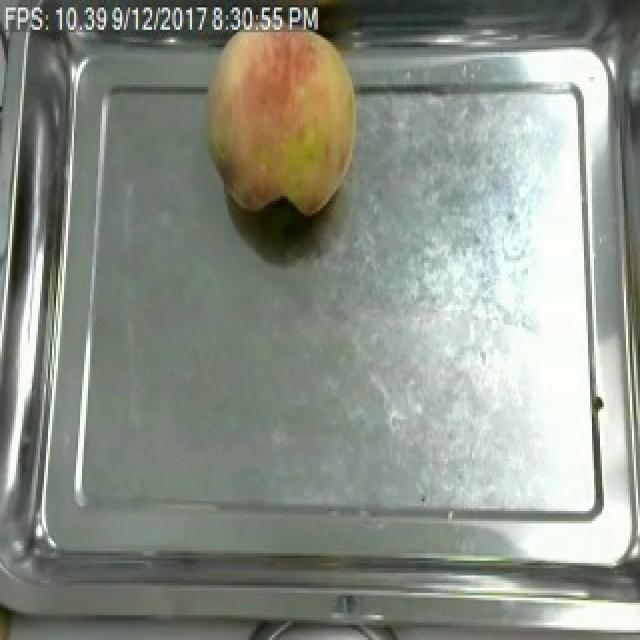Fruit: (198, 7, 368, 221)
